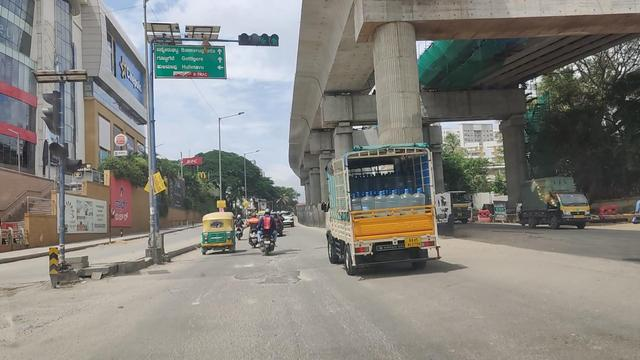HMV: (324, 143, 440, 270)
LMV: (201, 212, 237, 253), (259, 209, 277, 257)
RoadDamages: (260, 268, 302, 287), (237, 267, 262, 281)
